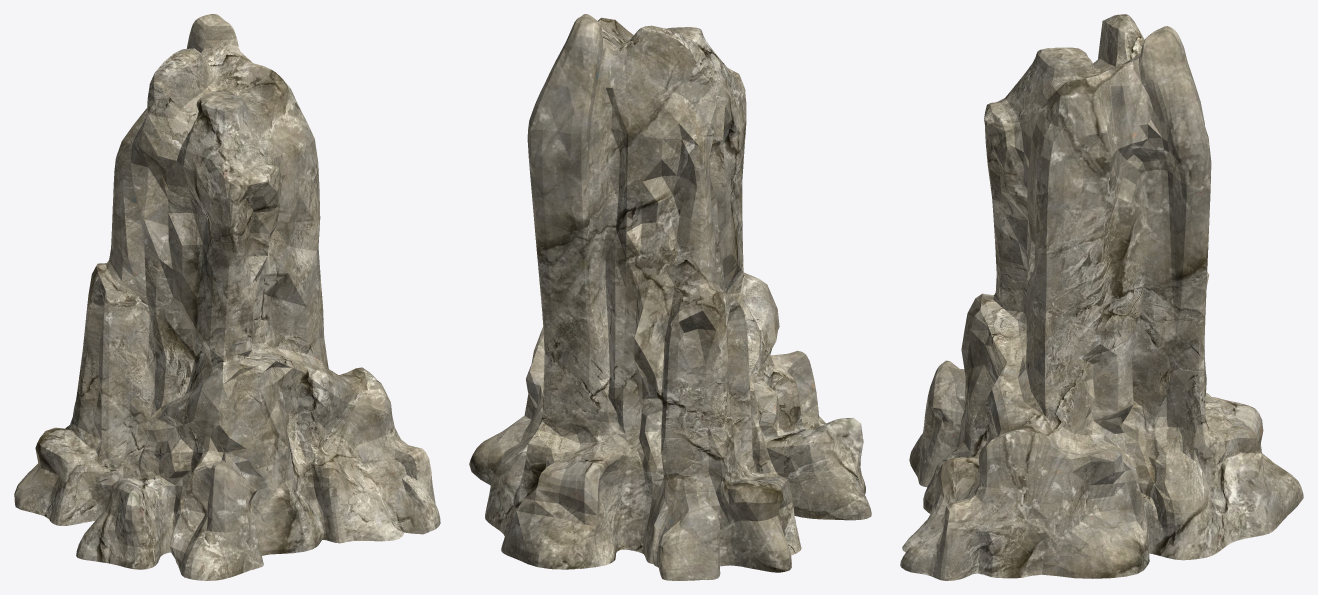
The model's file is tw2_1_rock_01_1-transformed.glb.
3 renders of one model, left to right at view 1: azimuth 30°, elevation 25°; view 2: azimuth 150°, elevation 25°; view 3: azimuth 270°, elevation 25°, orthographic. The views are drawn at different scales.
Visible parts, largest first — view 1: default; view 2: default; view 3: default.
Boxes of the visible parts, bbox=[...] form: default: bbox=[14, 14, 440, 580]; default: bbox=[469, 14, 871, 580]; default: bbox=[900, 14, 1303, 580].
Bounding box in the file's own units: 65.13 × 87.85 × 65.47.
Materials: 1 (1 with a texture image).
